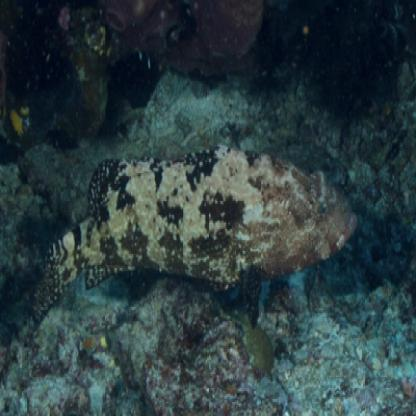Bio: (26, 143, 359, 324)
